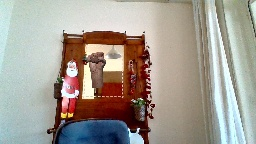Pugno: (84, 52, 107, 70)
